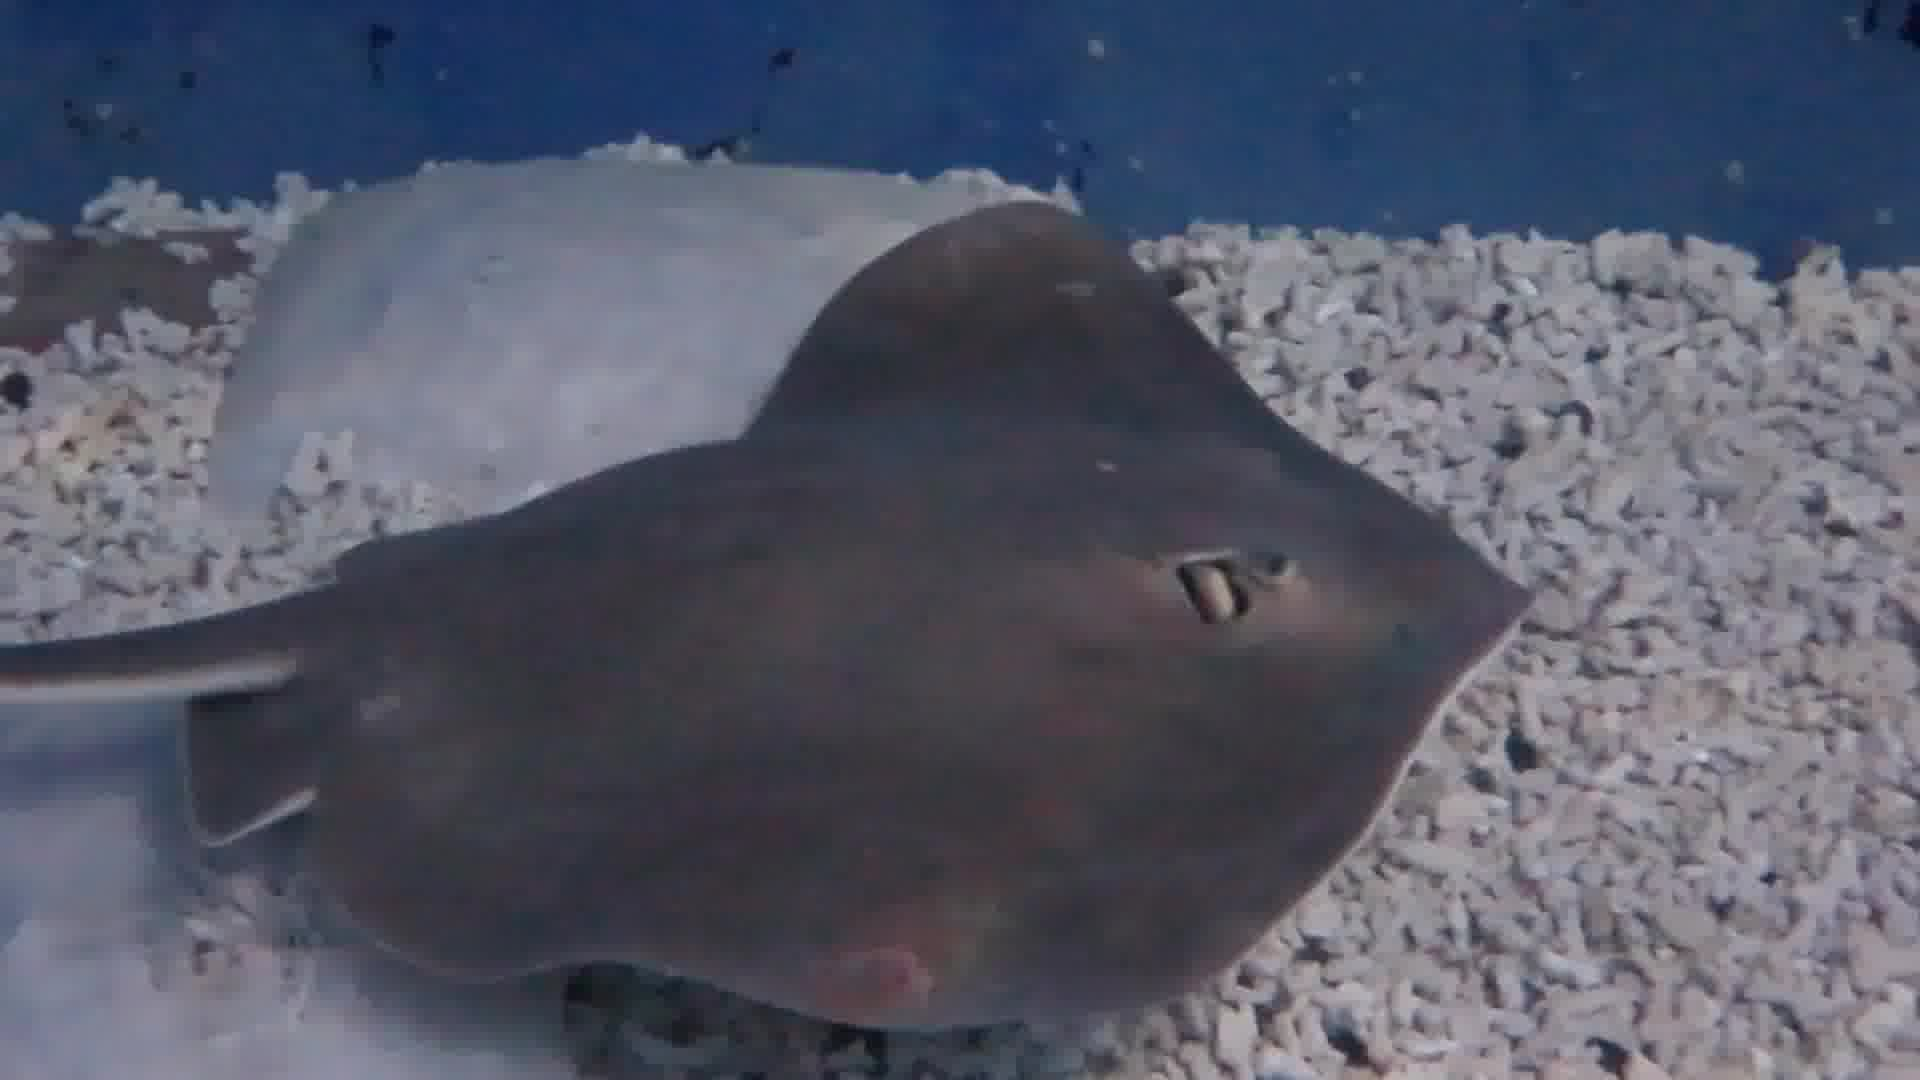Dasyatis bennetti: (251, 233, 1534, 1080)
